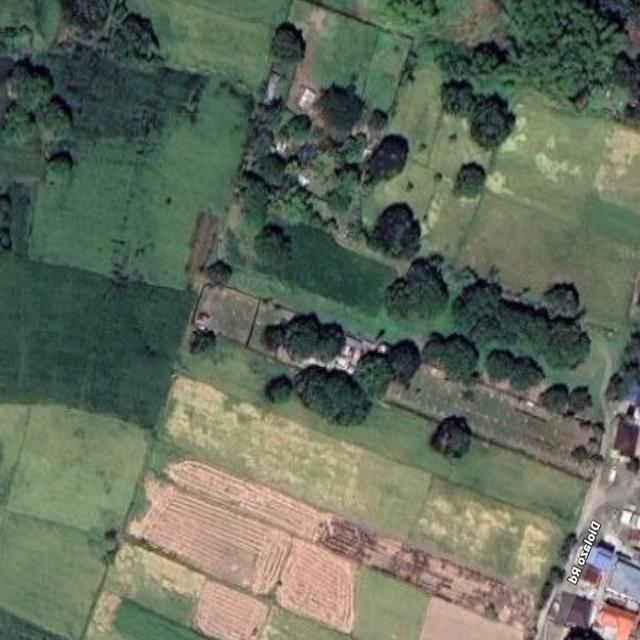Tree: (449, 280, 598, 369), (502, 5, 630, 92), (440, 74, 516, 153), (290, 365, 370, 432), (262, 312, 341, 367), (384, 256, 448, 323), (369, 200, 424, 262), (482, 350, 545, 396), (421, 333, 475, 386), (2, 60, 55, 114), (350, 347, 394, 408), (109, 12, 156, 68), (602, 336, 640, 405), (314, 81, 362, 134), (578, 70, 632, 116), (363, 130, 408, 184), (535, 381, 595, 418), (300, 147, 342, 199), (38, 94, 76, 150), (262, 19, 306, 67), (432, 411, 471, 460), (233, 170, 266, 224), (253, 222, 290, 269), (538, 278, 581, 318), (386, 335, 419, 387), (452, 159, 487, 201), (0, 104, 34, 146), (466, 38, 501, 77), (252, 152, 288, 186), (42, 156, 74, 190), (250, 122, 275, 162), (281, 110, 312, 142), (187, 324, 215, 359), (267, 370, 294, 406), (323, 184, 351, 215), (203, 256, 231, 286)
